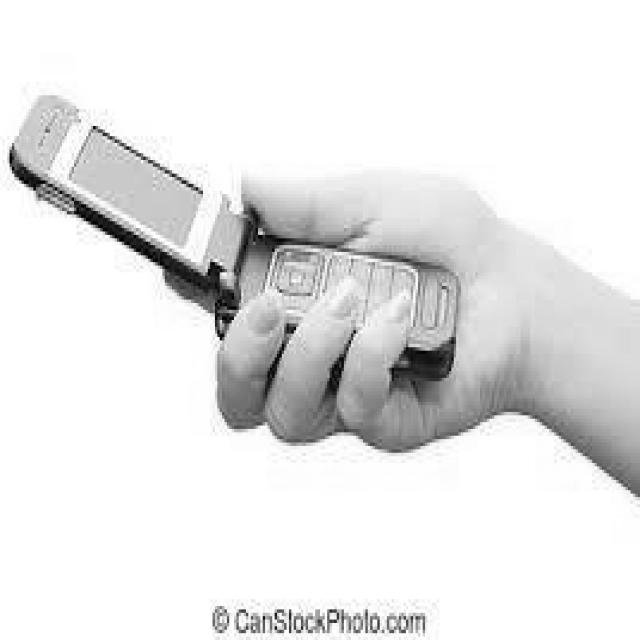No gun_phone: (10, 97, 458, 379)
